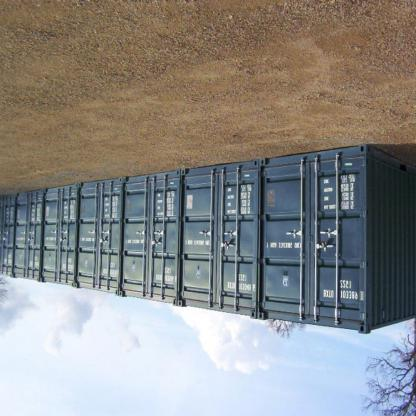Damage: (281, 194, 303, 224), (111, 219, 123, 250), (266, 269, 275, 297), (168, 229, 178, 253), (44, 253, 52, 270)
